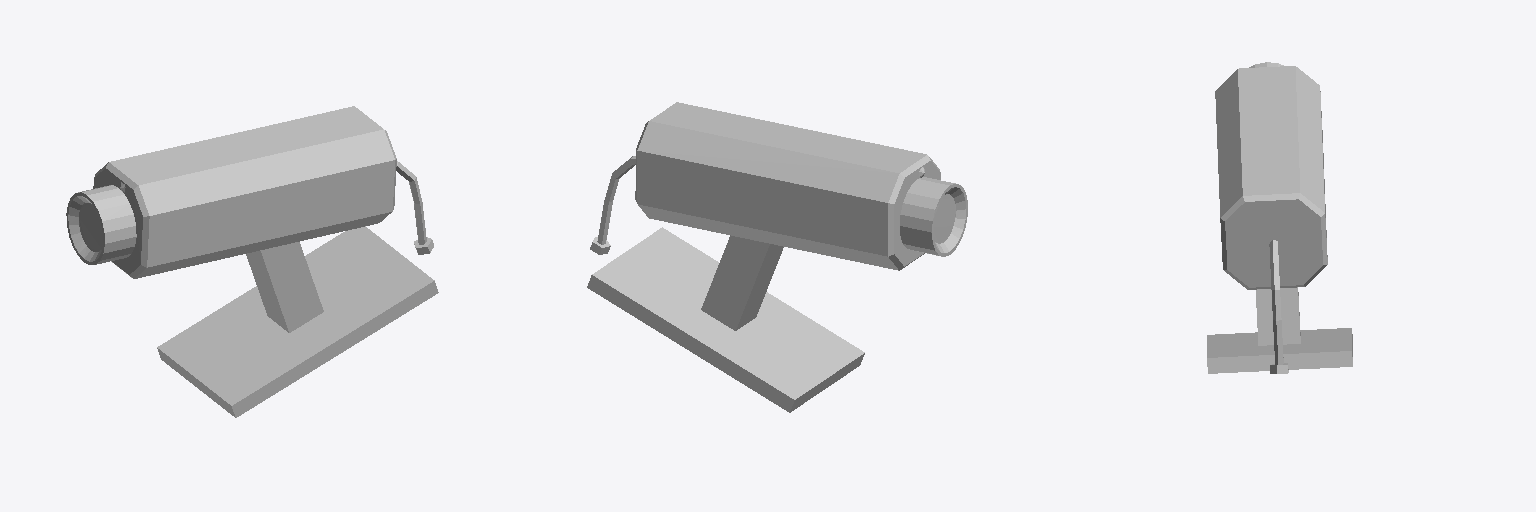
File: camera.obj
3 renders of one model, left to right at view 1: azimuth 30°, elevation 25°; view 2: azimuth 150°, elevation 25°; view 3: azimuth 270°, elevation 25°, orthographic.
Parts seen in each view (by area): view 1: object_0, object_1; view 2: object_0, object_1; view 3: object_0.
Part boxes in pixels (left/top/right/bottom): object_0: left=66, top=106, right=438, bottom=417; object_1: left=79, top=203, right=102, bottom=251; object_0: left=587, top=102, right=967, bottom=412; object_1: left=934, top=194, right=955, bottom=243; object_0: left=1207, top=62, right=1352, bottom=373.
Bounding box in the file's own units: 0.4808 × 0.3171 × 0.1715.